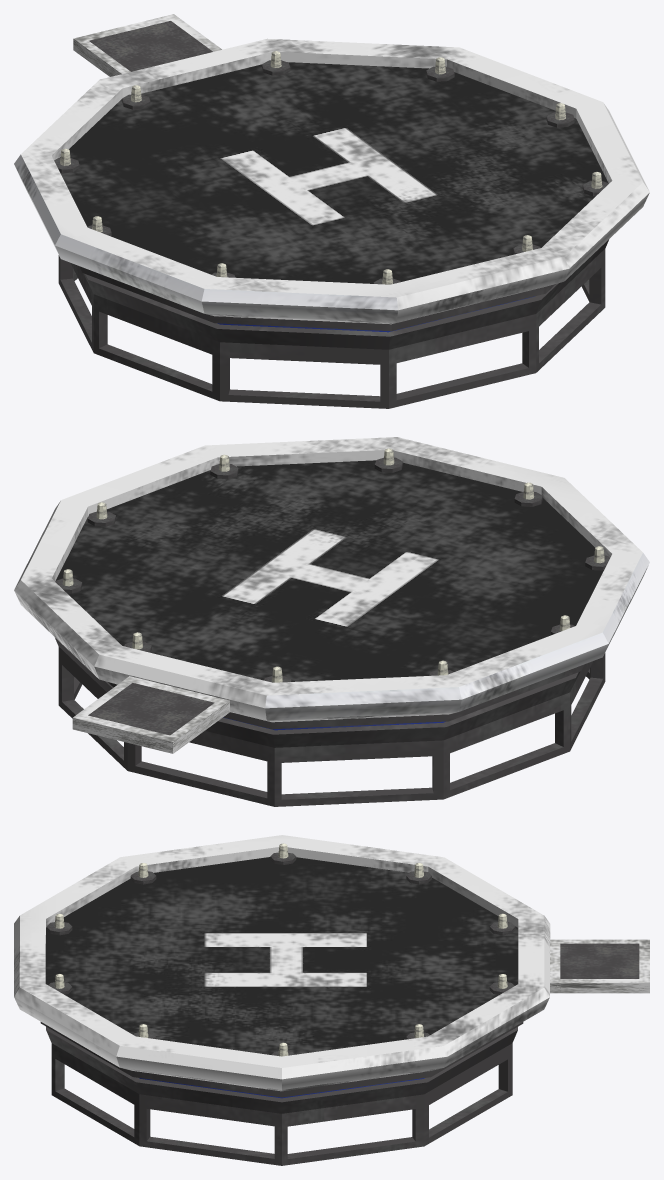
File: BattleScene_Stage3_Asset.fbx
3 views of the same model, one above another, from view 1: azimuth 30°, elevation 25°; view 2: azimuth 150°, elevation 25°; view 3: azimuth 270°, elevation 25° (orthographic). The views are drawn at different scales.
Parts seen in each view (by area): view 1: BattleScene_Stage3_Asset, HelipadStairs_Asset; view 2: BattleScene_Stage3_Asset, HelipadStairs_Asset; view 3: BattleScene_Stage3_Asset, HelipadStairs_Asset.
Part boxes in pixels (x1=…): BattleScene_Stage3_Asset: x1=14, y1=38, x2=649, y2=408; HelipadStairs_Asset: x1=73, y1=14, x2=221, y2=76; BattleScene_Stage3_Asset: x1=14, y1=437, x2=649, y2=806; HelipadStairs_Asset: x1=72, y1=676, x2=229, y2=753; BattleScene_Stage3_Asset: x1=14, y1=835, x2=550, y2=1165; HelipadStairs_Asset: x1=550, y1=939, x2=649, y2=993.
Bounding box in the file's own units: 15.7 × 3.67 × 17.72.
